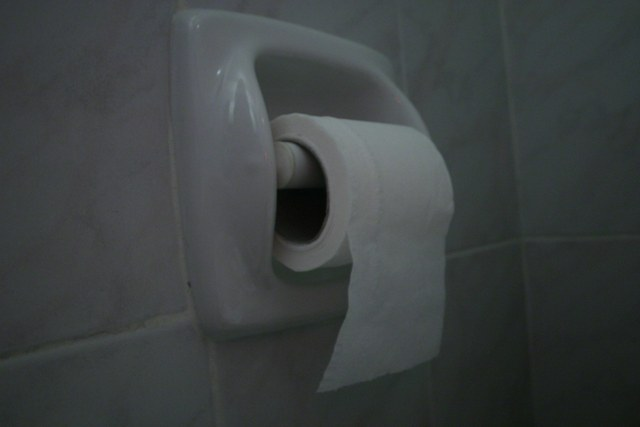toilet_paper: (270, 112, 454, 393)
